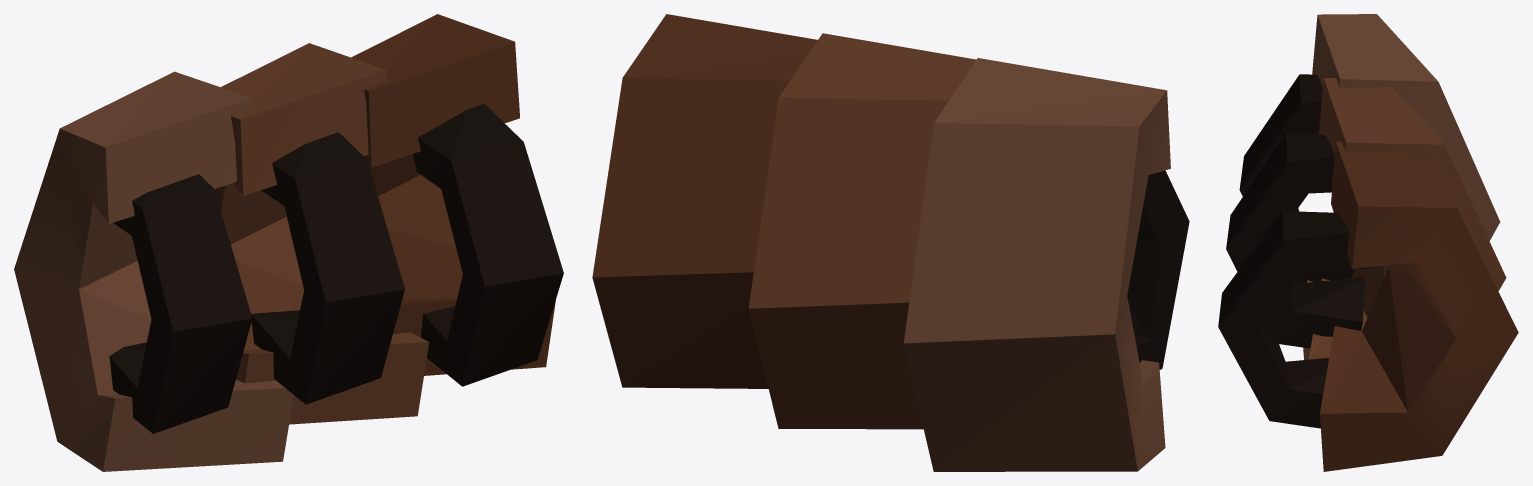
File: Bracer 05.FBX
3 renders of one model, left to right at view 1: azimuth 30°, elevation 25°; view 2: azimuth 150°, elevation 25°; view 3: azimuth 270°, elevation 25°, orthographic. The views are drawn at different scales.
Parts seen in each view (by area): view 1: Bracer 05; view 2: Bracer 05; view 3: Bracer 05.
Boxes of the visible parts, x1=… form: Bracer 05: x1=14, y1=14, x2=563, y2=471; Bracer 05: x1=592, y1=14, x2=1189, y2=471; Bracer 05: x1=1218, y1=14, x2=1518, y2=471.
Bounding box in the file's own units: 16.02 × 11.32 × 10.51.
